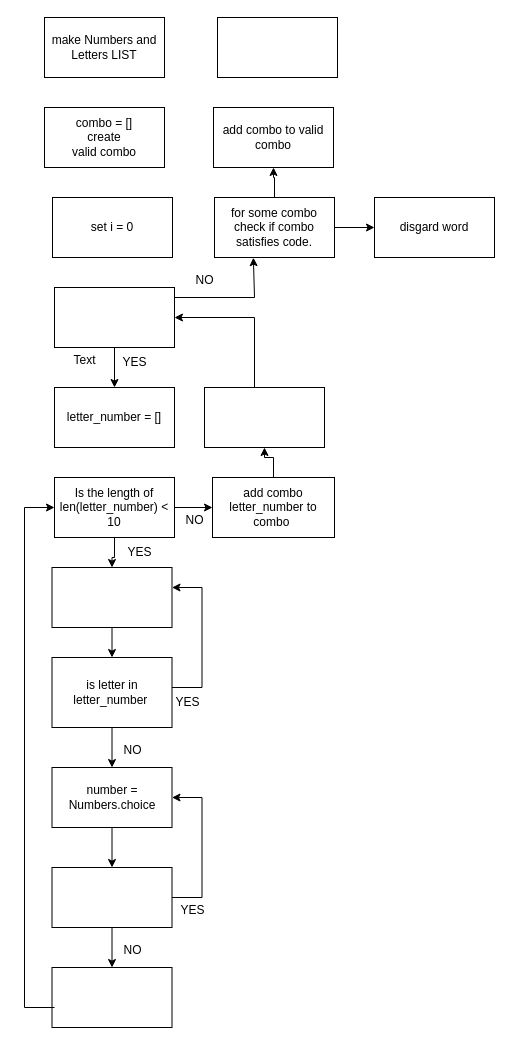
The diagram is 512 pixels wide and 1045 high, and some of its shapes have lost their labels. Each missing label, with the centre of its shape:
i += 1: the point at 264,417
is i < 100,000?: the point at 114,317
Is there a letter with this number?: the point at 111,897
letter = Letters.choice(): the point at 111,597
put this pair of numbers in letter_number list: the point at 111,997
